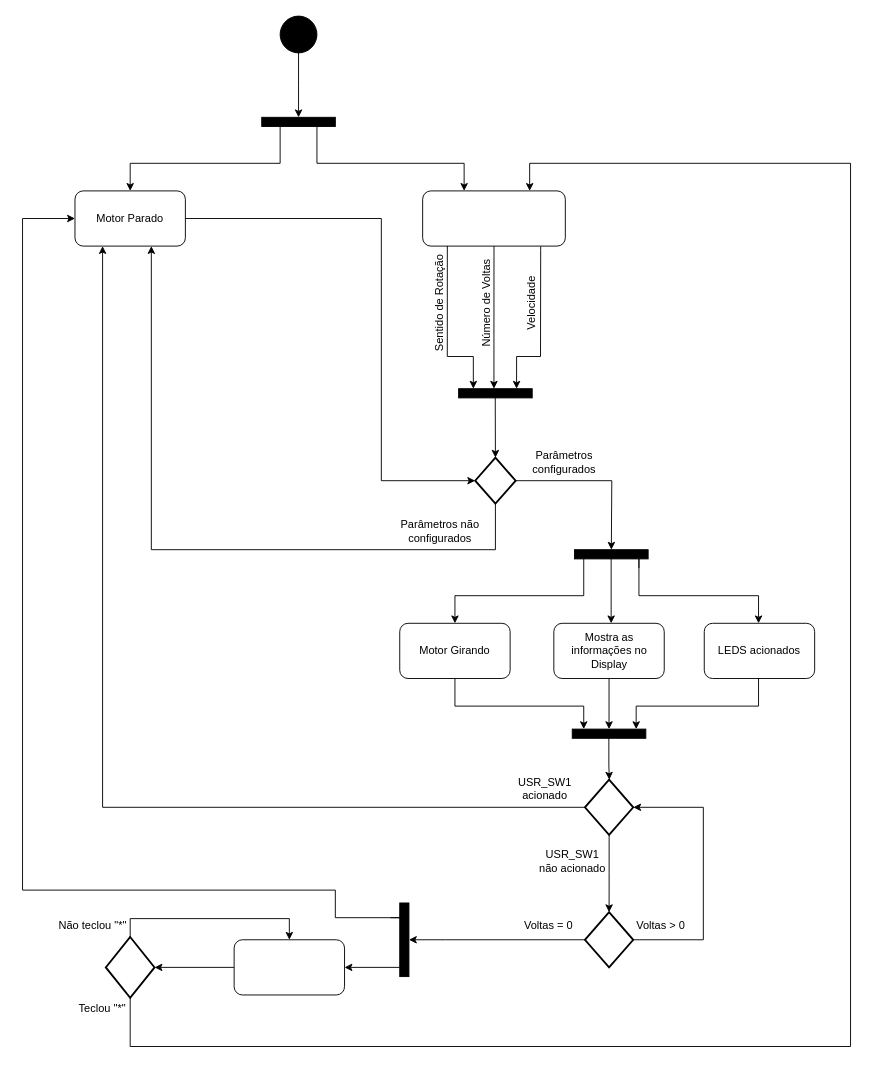
Some shapes in this 874 by 1070 pixel diagram are drawn without their labels. Each missing label, with the centre of its shape:
Display mostra "FIM": point 289,967
Display solicita as configurações: point 493,218
